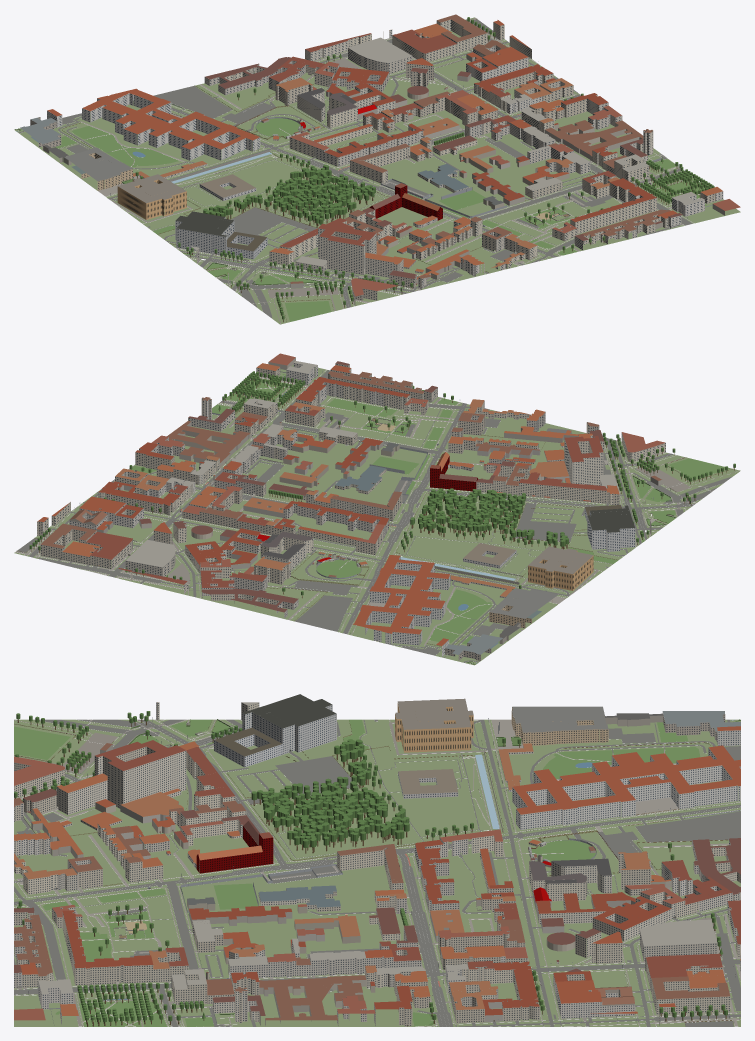
3 views of the same model, one above another, from view 1: azimuth 30°, elevation 25°; view 2: azimuth 150°, elevation 25°; view 3: azimuth 270°, elevation 25° (orthographic). The views are drawn at different scales.
Size of the model in its own units: 751 by 45.12 by 751.
Materials: 3 (1 with a texture image).
